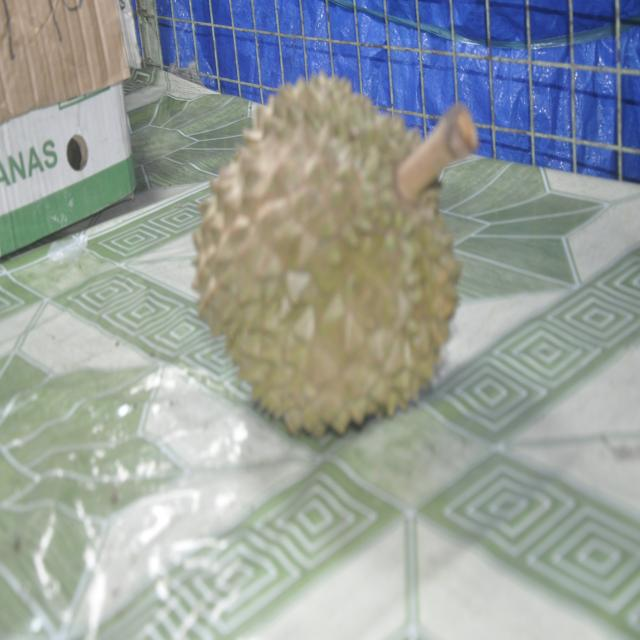mature: (194, 72, 478, 436)
